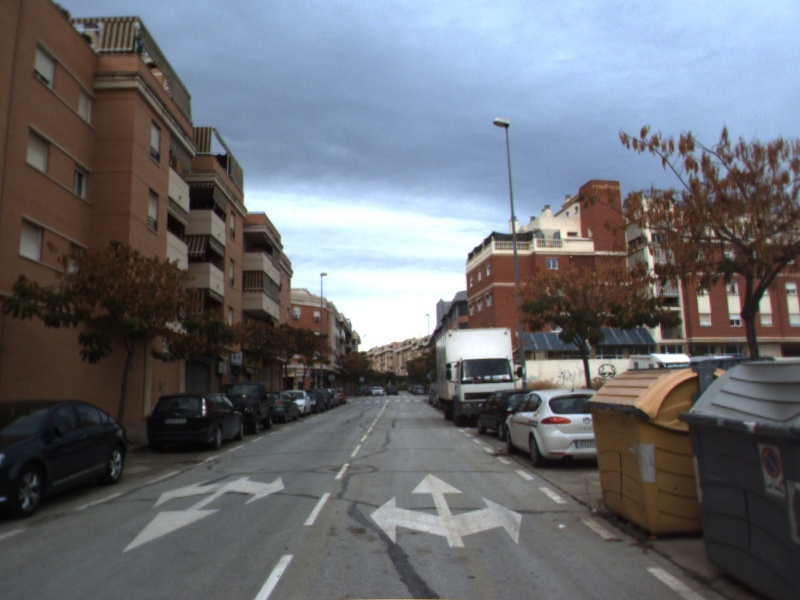STRAIGHT_LEFT_RIGHT: (367, 469, 526, 550)
